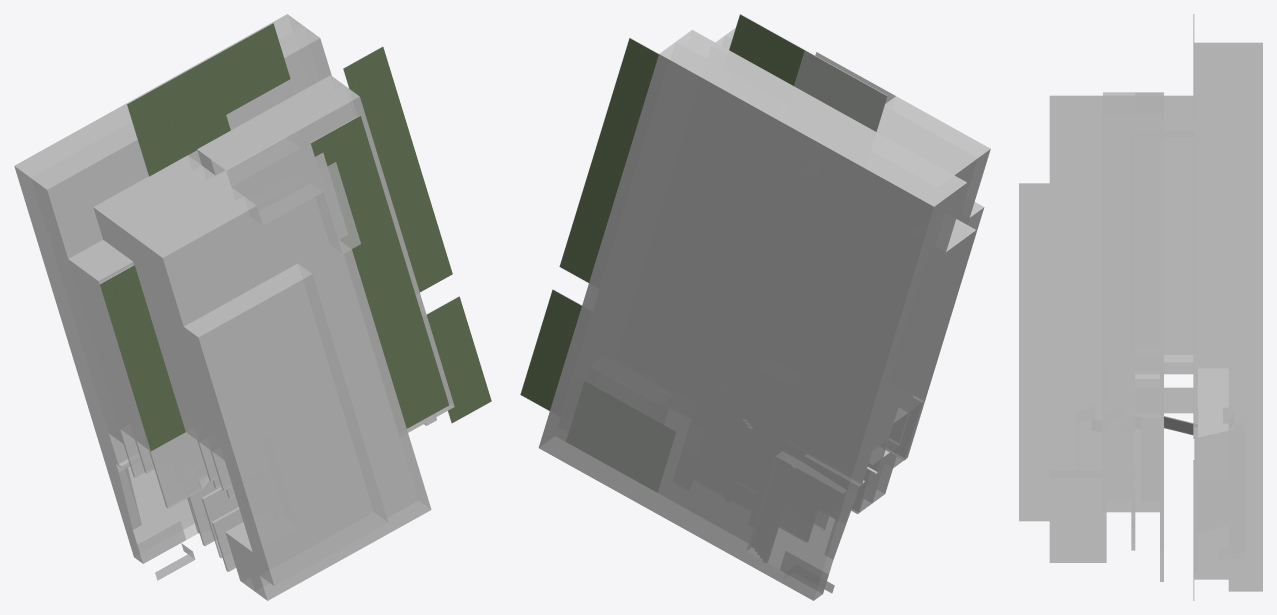
Rendered from opt1-2.obj.
The picture shows the model from 3 angles, left to right: view 1: azimuth 30°, elevation 25°; view 2: azimuth 150°, elevation 25°; view 3: azimuth 270°, elevation 25°; orthographic projection. The views are drawn at different scales.
Size of the model in its own units: 280 by 327 by 128.
2 materials, 1 textured.
